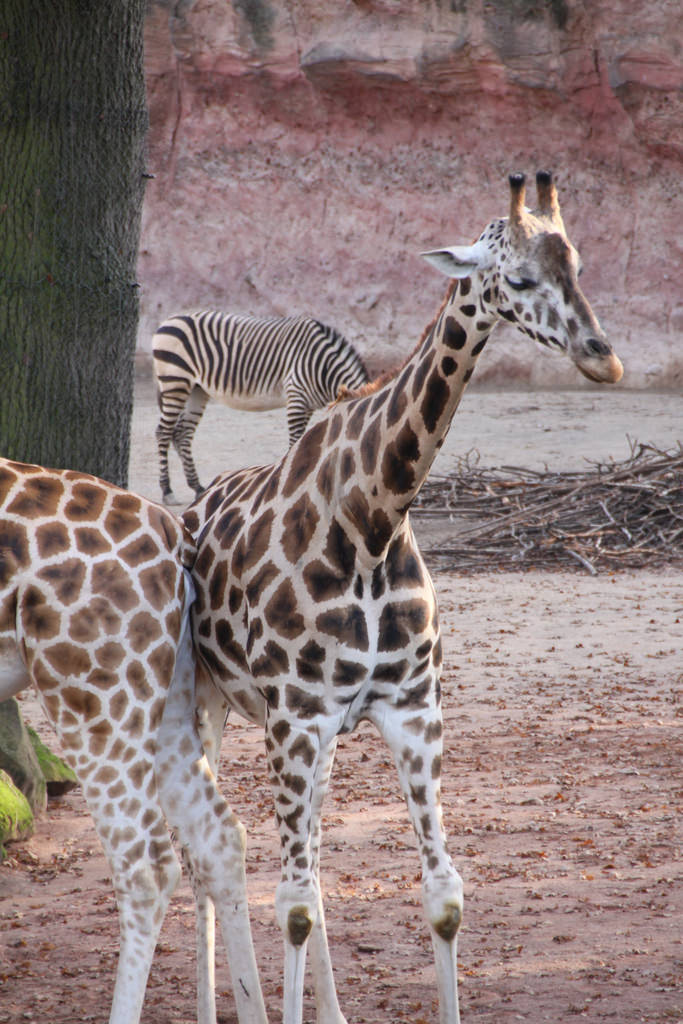giraffe: (208, 176, 623, 1001), (3, 385, 241, 1024)
